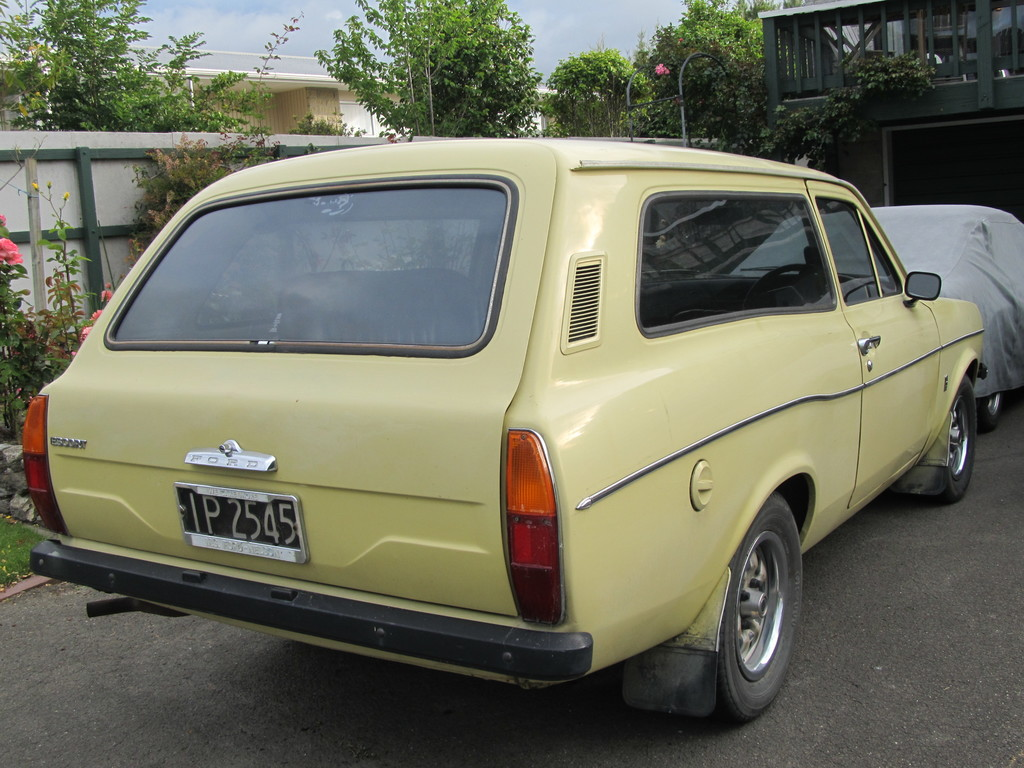Car: (23, 132, 986, 735), (732, 198, 1023, 431)
